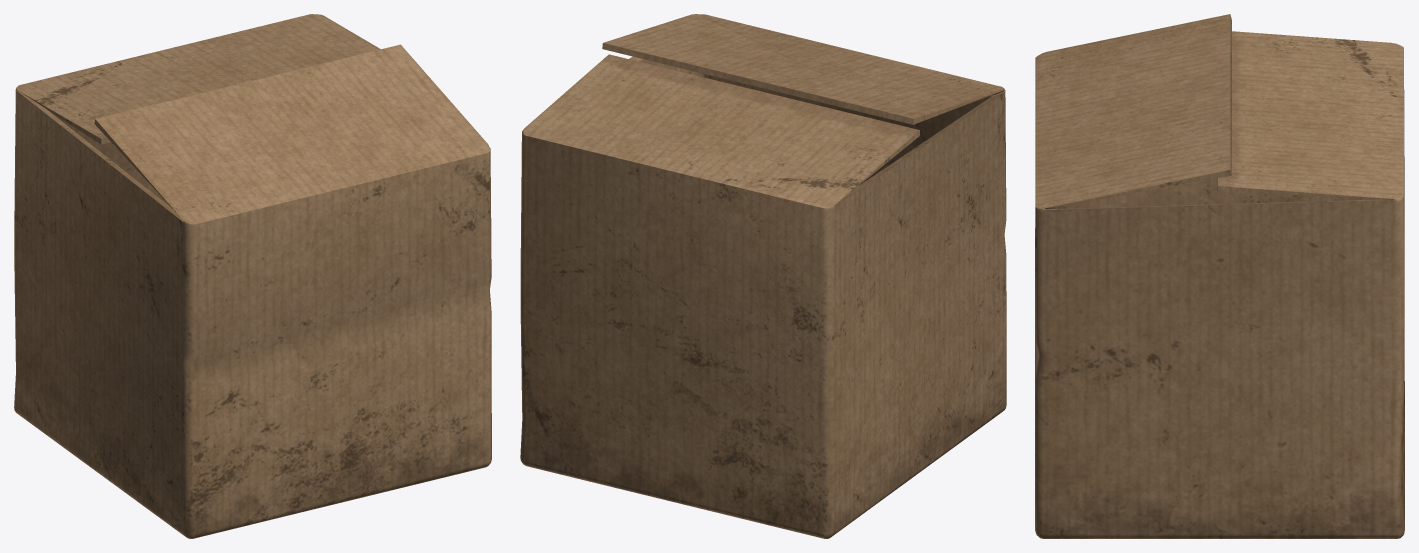
File: box_practical_model_-_yadira.glb
The picture shows the model from 3 angles, left to right: view 1: azimuth 30°, elevation 25°; view 2: azimuth 150°, elevation 25°; view 3: azimuth 270°, elevation 25°; orthographic projection. The views are drawn at different scales.
Parts seen in each view (by area): view 1: Cubo_2; view 2: Cubo_2; view 3: Cubo_2.
Boxes of the visible parts, x1,y1,x2,y2 form: Cubo_2: (14,14,491,538); Cubo_2: (520,14,1006,538); Cubo_2: (1035,14,1404,538).
Bounding box in the file's own units: 1.73 × 1.92 × 1.73.
Materials: 1 (1 with a texture image).
